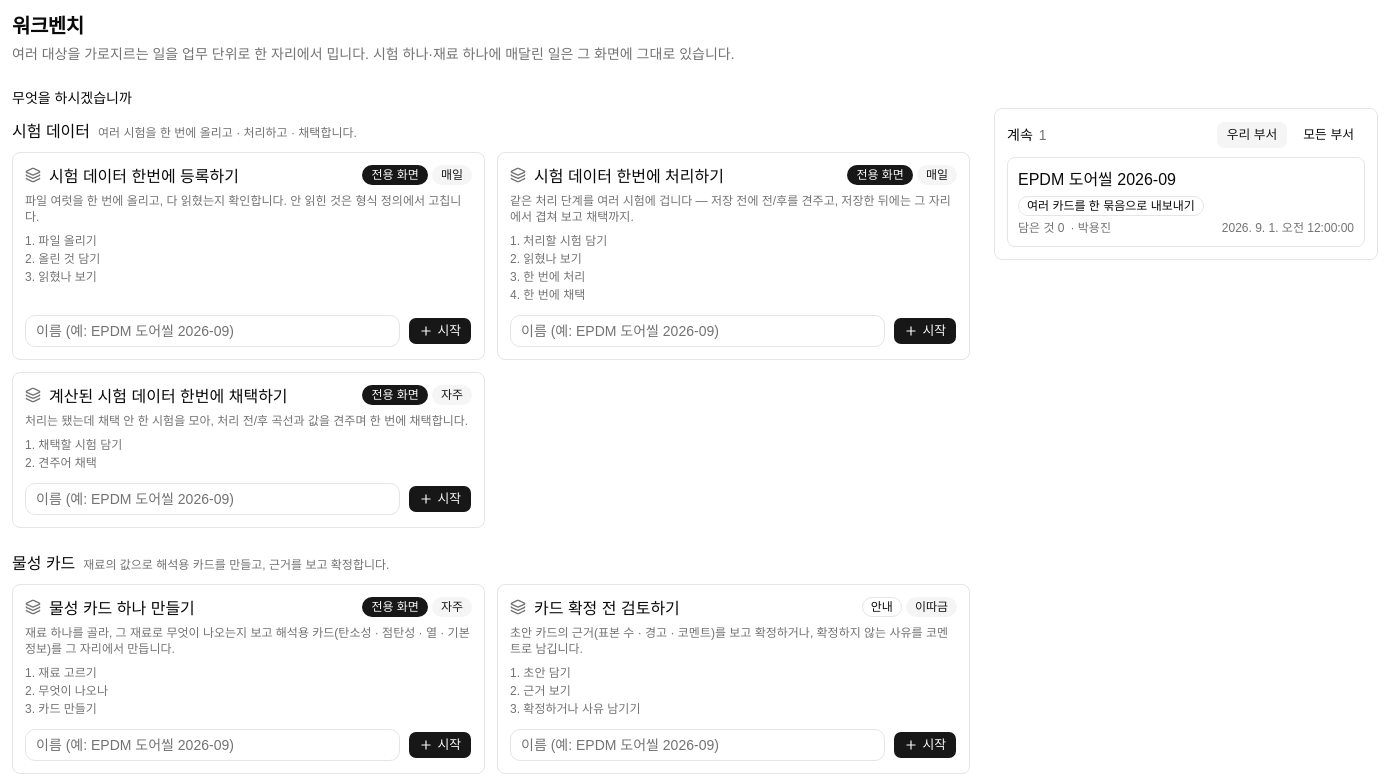
계속 › 누르면 그 작업을 연다
Click the text "EPDM 도어씰 2026-09": (1097, 180) [1018,171,1176,188]
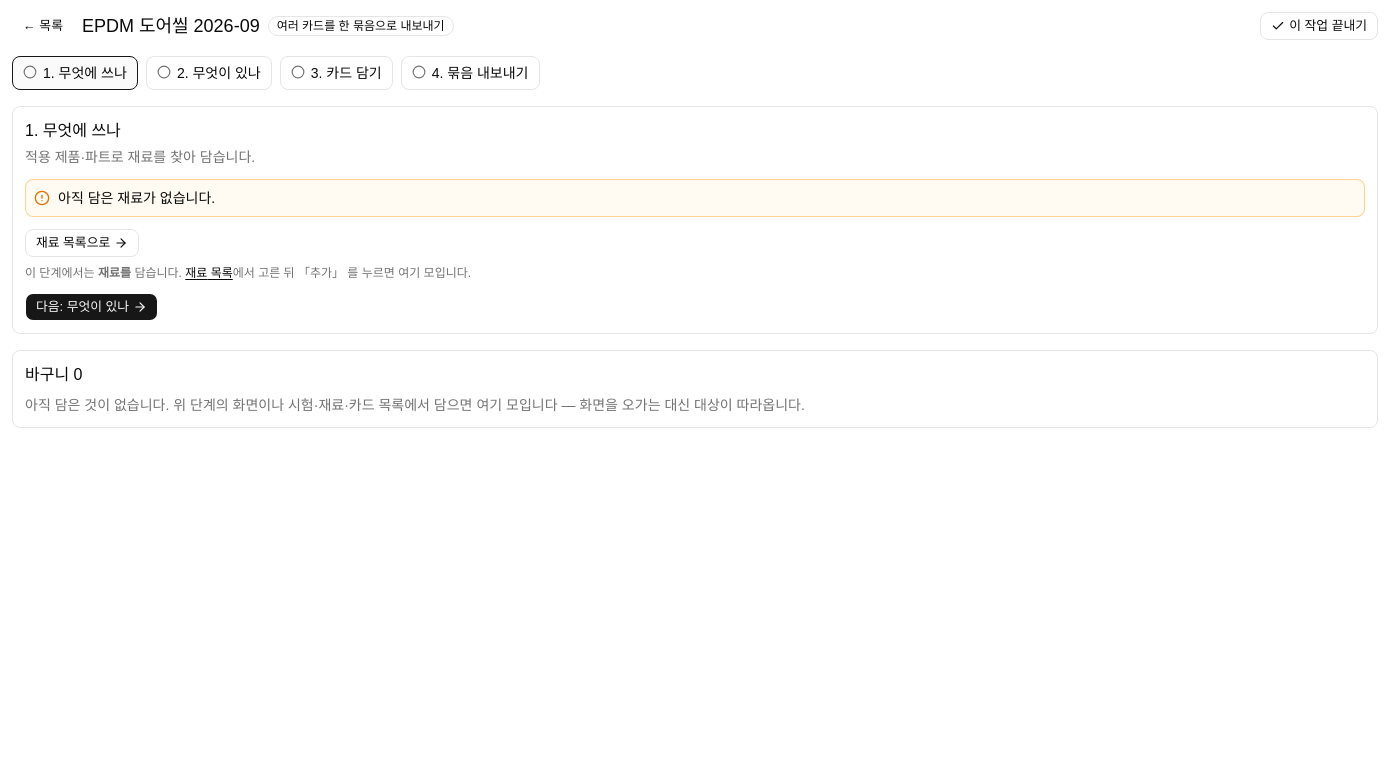
Expected: the element labelled "바구니" is shown, [12,350,1378,428]
